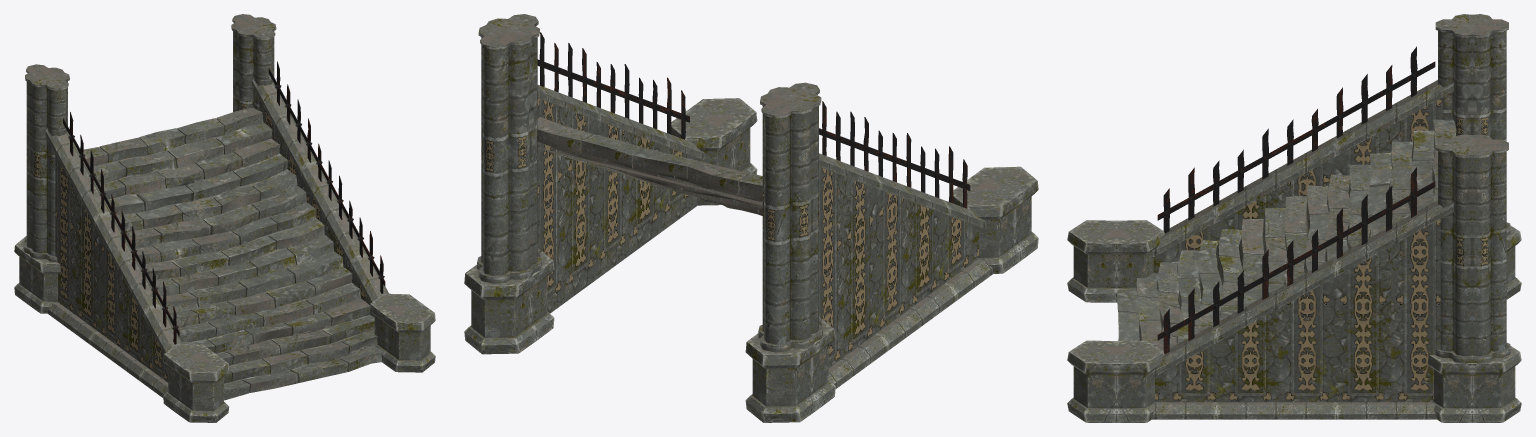
The model's file is SM_Prop_Stairs_A1.fbx.
The picture shows the model from 3 angles, left to right: view 1: azimuth 30°, elevation 25°; view 2: azimuth 150°, elevation 25°; view 3: azimuth 270°, elevation 25°; orthographic projection. The views are drawn at different scales.
Parts seen in each view (by area): view 1: SM_Prop_Stairs_A1_LOD0; view 2: SM_Prop_Stairs_A1_LOD0; view 3: SM_Prop_Stairs_A1_LOD0.
Boxes of the visible parts, box(x1,y1,x2,y2) form: SM_Prop_Stairs_A1_LOD0: box(14, 14, 435, 422); SM_Prop_Stairs_A1_LOD0: box(464, 14, 1038, 422); SM_Prop_Stairs_A1_LOD0: box(1067, 14, 1521, 422).
Size of the model in its own units: 509 by 680 by 446.
2 materials, 2 textured.
